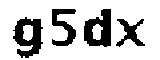5: (48, 3, 79, 51)
d: (82, 5, 113, 52)
g: (9, 13, 44, 60)
x: (114, 14, 145, 50)
